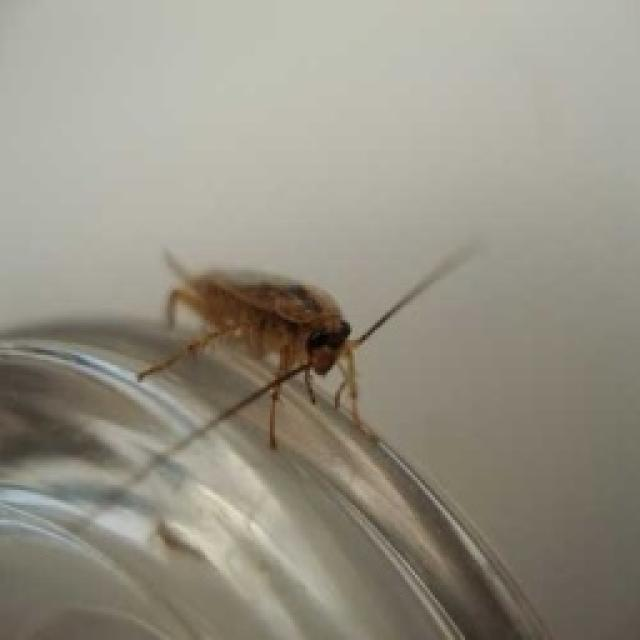cockroach: (130, 234, 483, 461)
